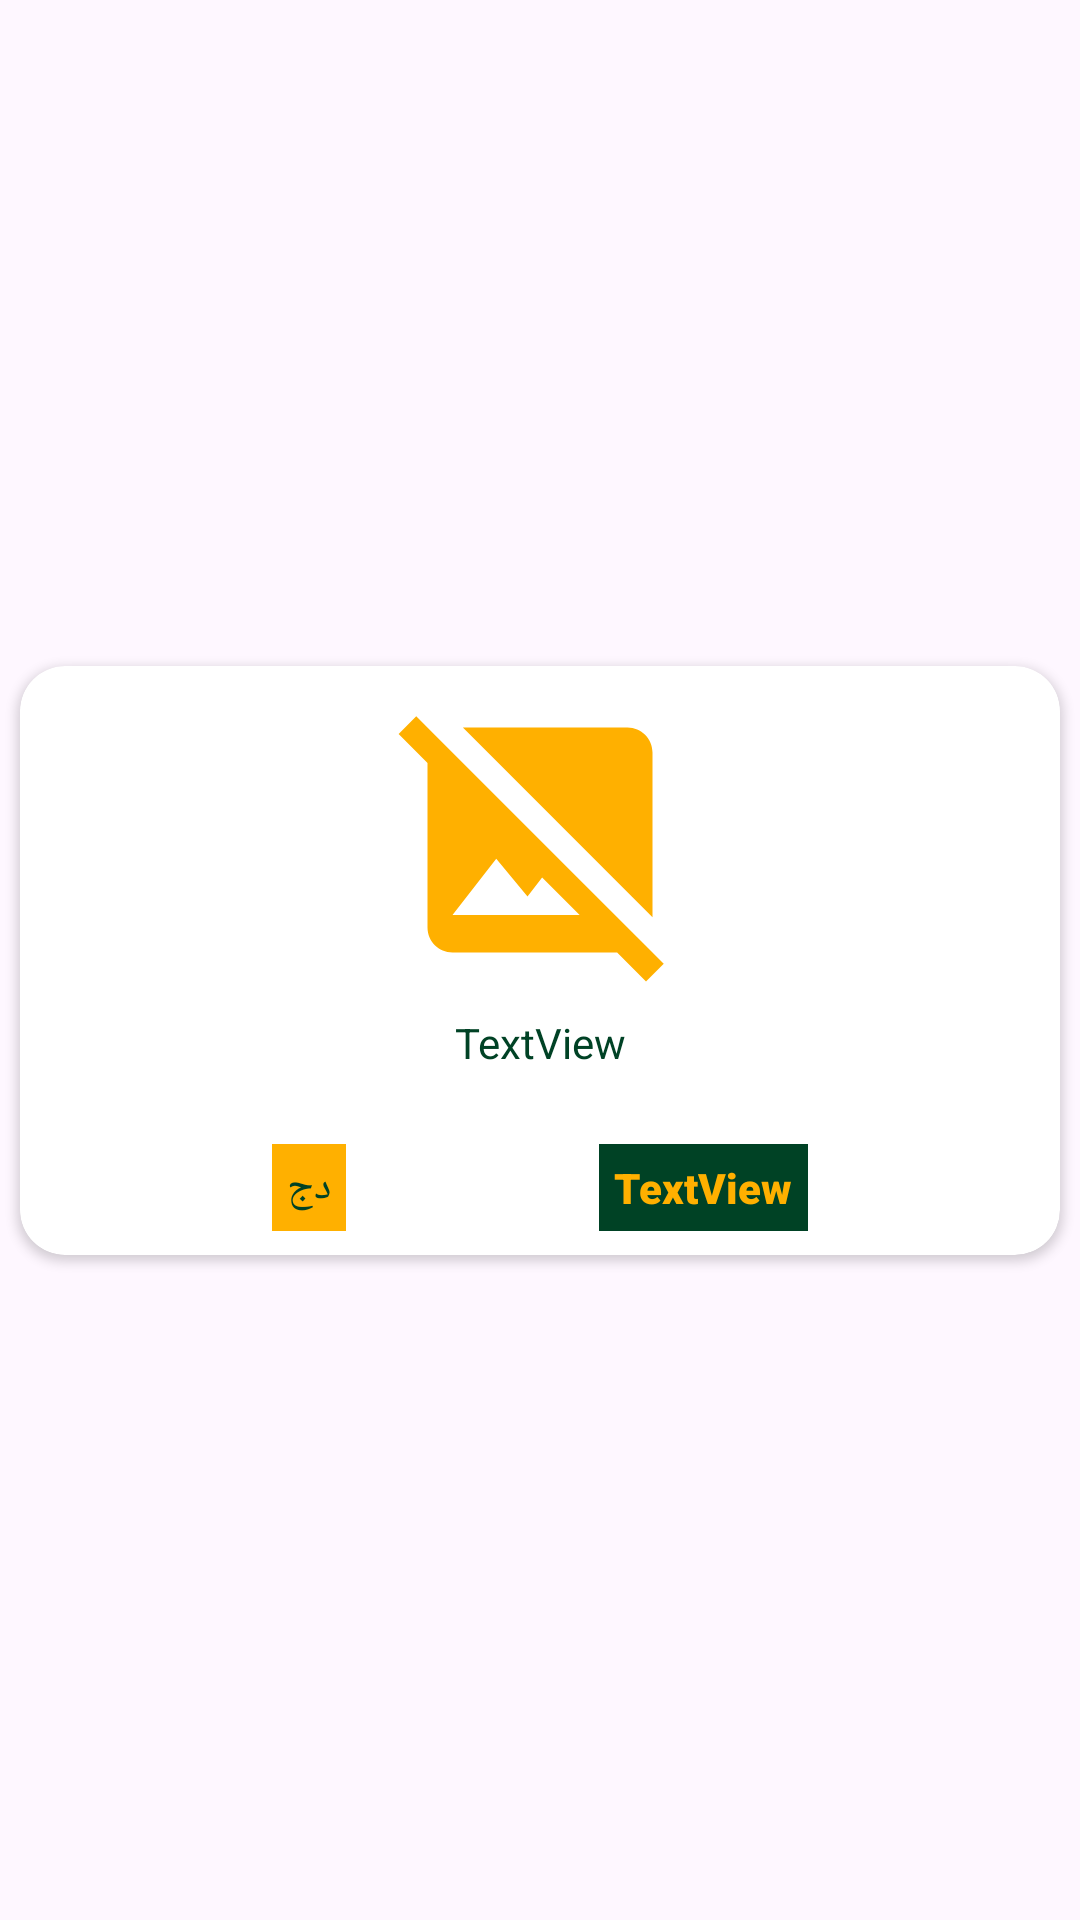

Screen size 1080×1920. Icon name, then its center in pixels as (x,y):
not supported: (531,849)
